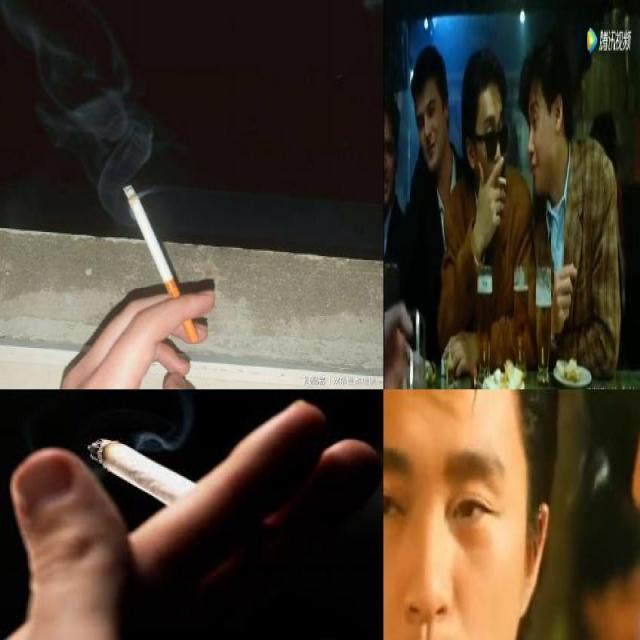smoking: (123, 184, 201, 344), (89, 436, 220, 520), (496, 174, 508, 188)
